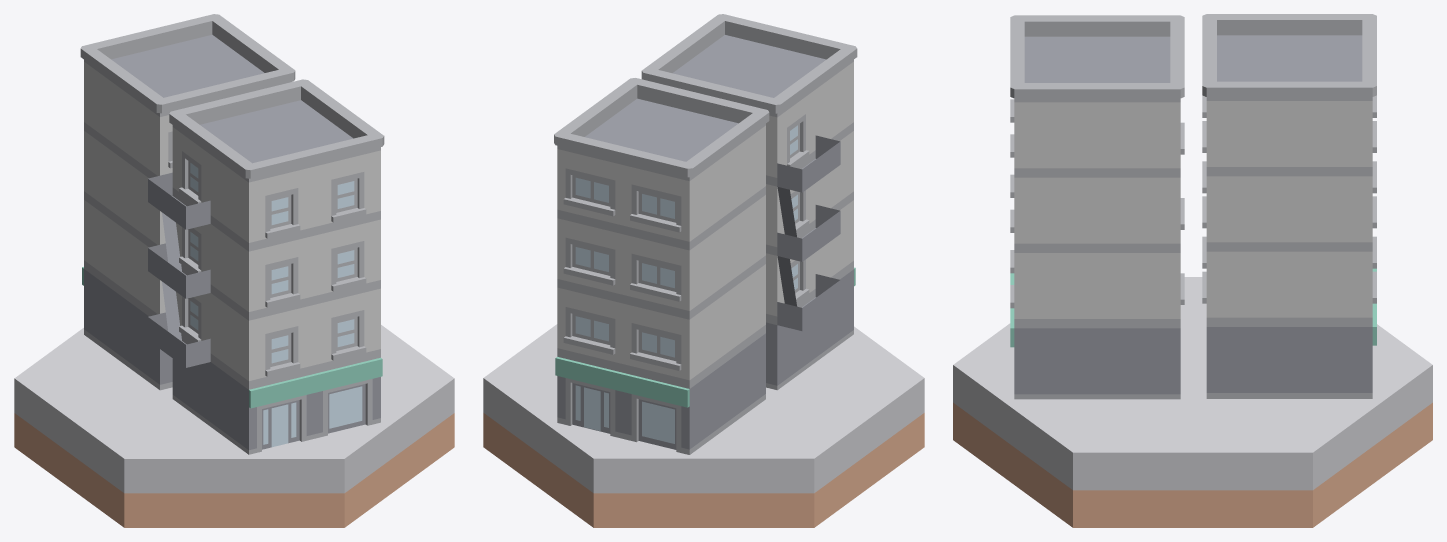
Rendered from 2_buildings_2_high.fbx.
3 views of the same model, side by side, from view 1: azimuth 30°, elevation 25°; view 2: azimuth 150°, elevation 25°; view 3: azimuth 270°, elevation 25° (orthographic). The views are drawn at different scales.
Parts seen in each view (by area): view 1: large_buildingC, pavement_high.011, large_buildingB; view 2: large_buildingB, pavement_high.011, large_buildingC; view 3: large_buildingB, large_buildingC, pavement_high.011.
Boxes of the visible parts, bbox=[...] form: large_buildingC: bbox=[148, 79, 384, 454]; pavement_high.011: bbox=[14, 325, 454, 527]; large_buildingB: bbox=[80, 14, 295, 390]; large_buildingB: bbox=[554, 78, 769, 454]; pavement_high.011: bbox=[483, 324, 924, 527]; large_buildingC: bbox=[641, 14, 857, 390]; large_buildingB: bbox=[1202, 14, 1376, 398]; large_buildingC: bbox=[1010, 15, 1184, 399]; pavement_high.011: bbox=[953, 277, 1432, 527].
Bounding box in the file's own units: 100 × 103 × 115.
